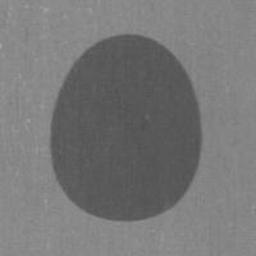Oil spot: (49, 33, 204, 223)
